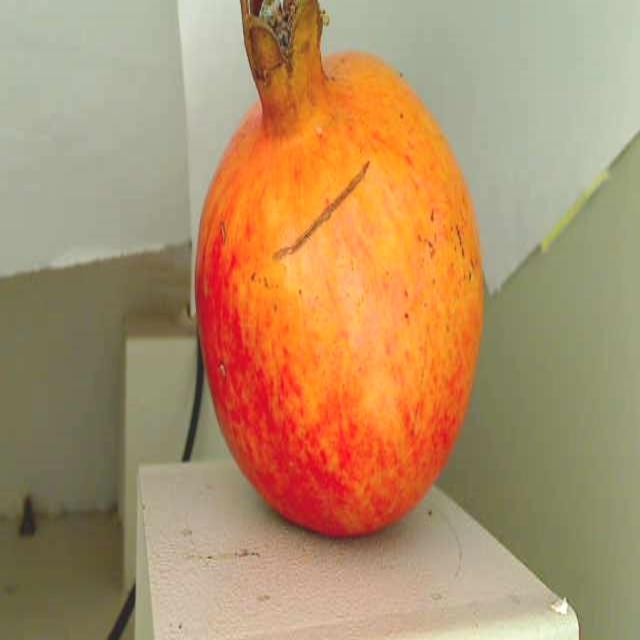pomegranate: (182, 0, 490, 550)
